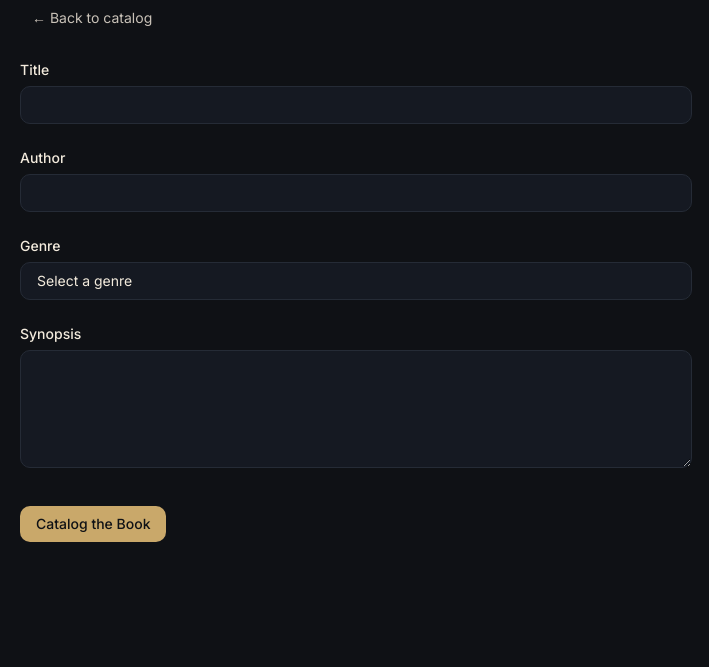
Scenario: BookForm › clears a field error once the user starts typing in that field
Click the button "Catalog the Book" at [93, 524], box [20,506,166,542]
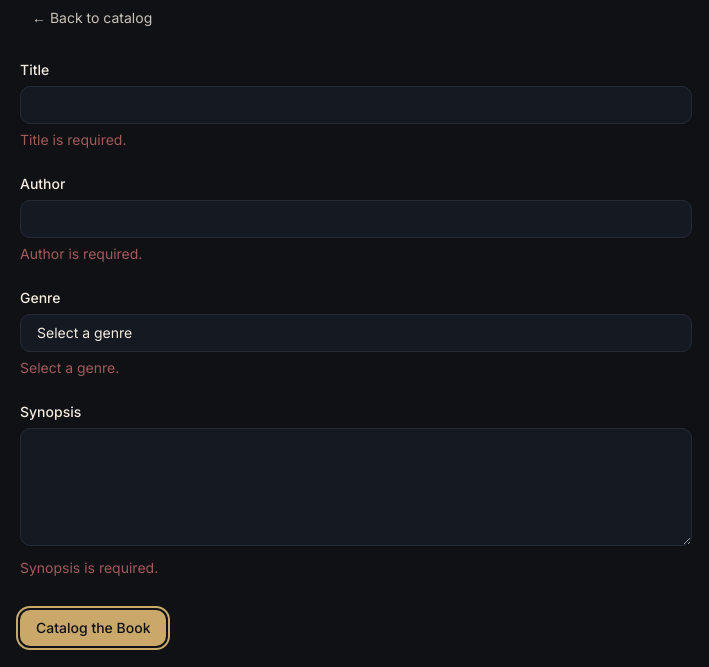
Expected: the text "Title is required." is shown, [20,131,126,148]
Type "T" into the field labelled "Title" at [356, 105], box [20,86,692,124]
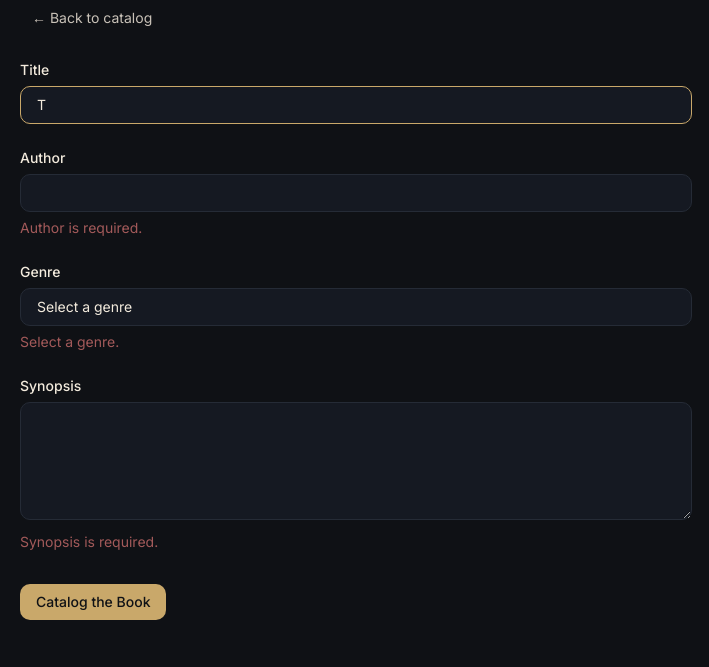
Expected: the text "Title is required." is gone
